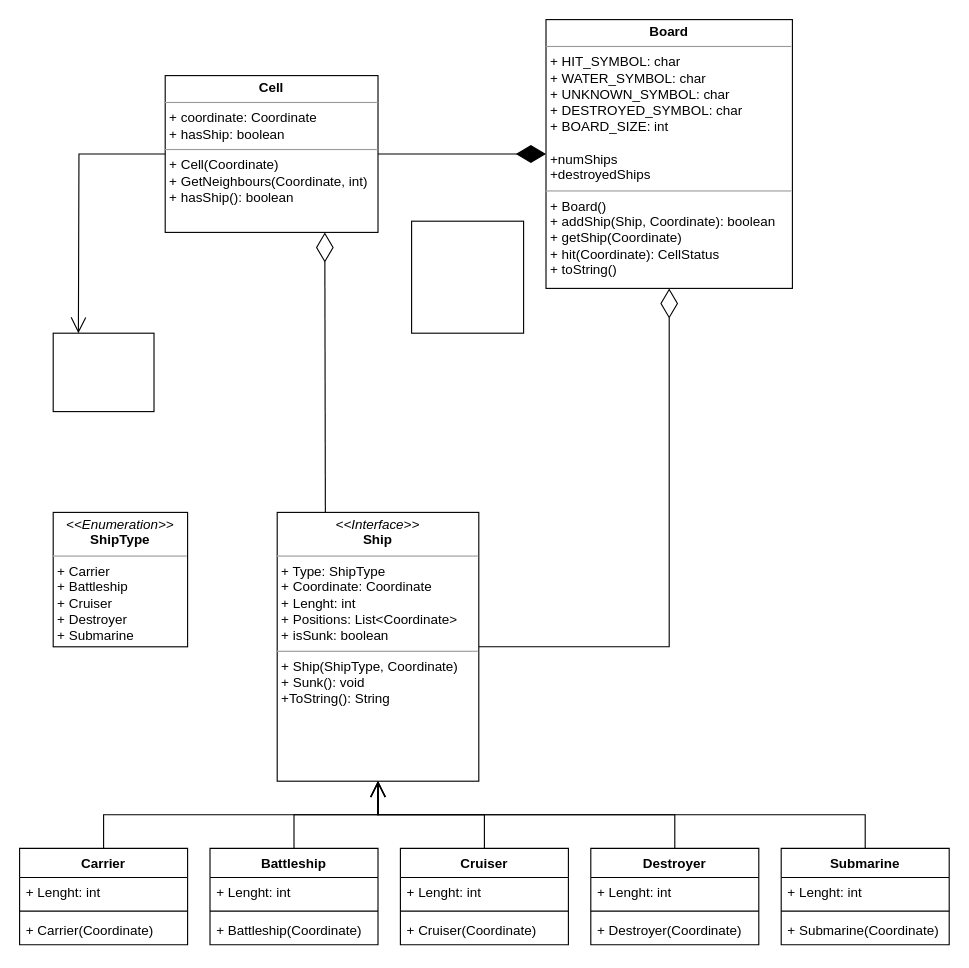
This 969x968 diagram has some shape labels left out. The shapes that lost their labels are listed below. From the top down, each one's centre as x and y in pixels, then its label:
At point (467, 276): "<<Enumeration>> CellStatus + WATER + HIT + DESTROYED".
At point (103, 372): "Coordinate + Letter: char + Number: int".
